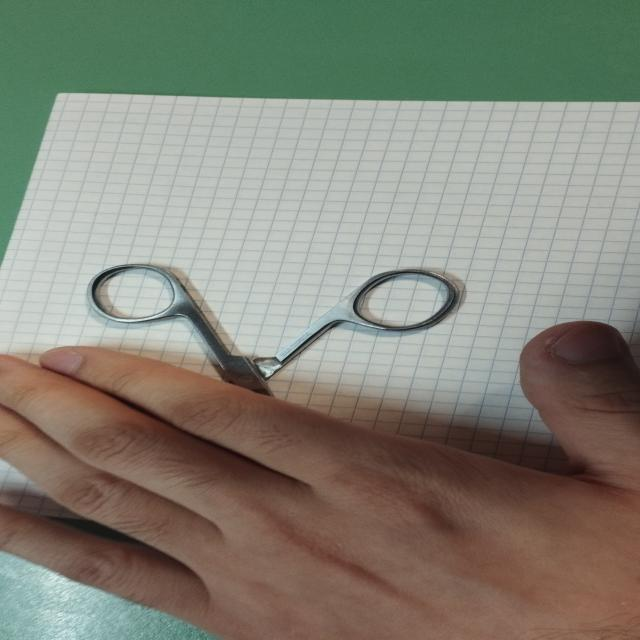tesoura: (64, 255, 476, 472)
